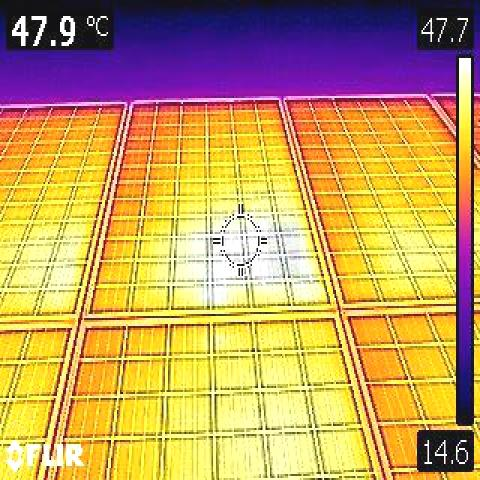fault: (268, 222, 300, 280)
